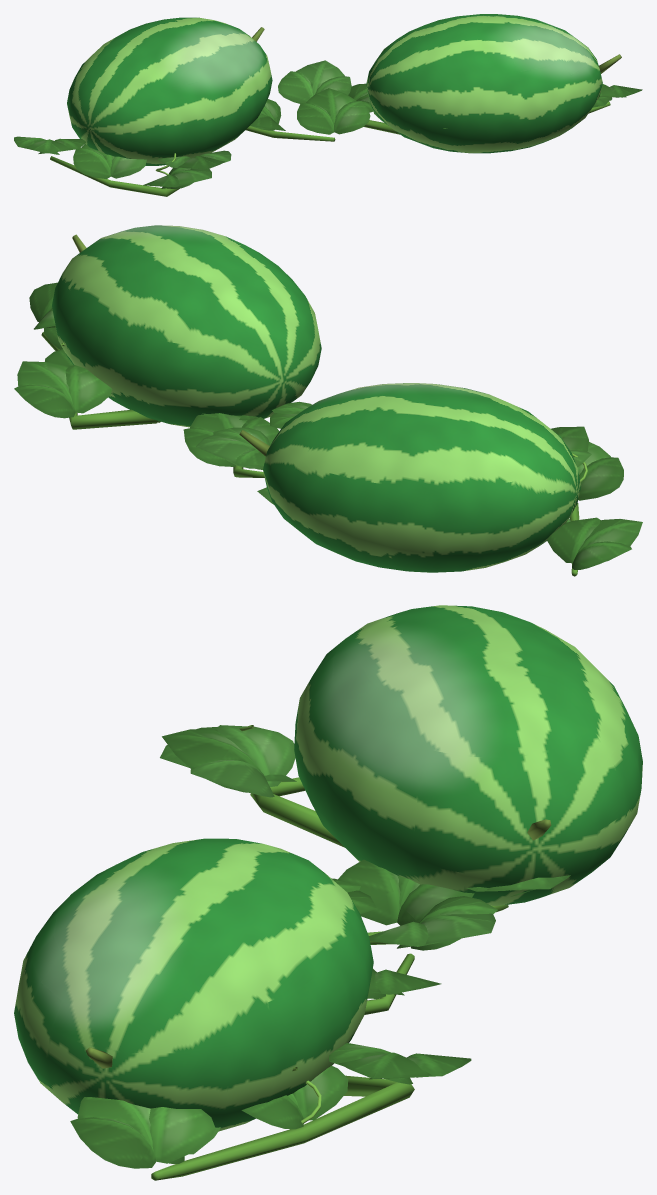
File: crop_watermelon.glb
3 renders of one model, top to bottom at view 1: azimuth 30°, elevation 25°; view 2: azimuth 150°, elevation 25°; view 3: azimuth 270°, elevation 25°, orthographic. The views are drawn at different scales.
Parts seen in each view (by area): view 1: P1_fruit0, P0_fruit0, P0_leaf, P1_leaf, P0_stem, P1_stem; view 2: P0_fruit0, P1_fruit0, P1_leaf, P0_leaf, P1_stem; view 3: P0_fruit0, P1_fruit0, P1_leaf, P0_leaf, P1_stem, P0_stem.
Part boxes in pixels (x1,y1,x2,y2): P1_fruit0: [366, 14, 621, 153]; P0_fruit0: [67, 17, 272, 165]; P0_leaf: [14, 88, 370, 188]; P1_leaf: [278, 60, 642, 128]; P0_stem: [50, 126, 335, 196]; P1_stem: [363, 101, 610, 134]; P0_fruit0: [239, 383, 581, 572]; P1_fruit0: [52, 225, 321, 427]; P1_leaf: [14, 282, 279, 469]; P0_leaf: [257, 401, 642, 569]; P1_stem: [41, 332, 264, 477]; P0_fruit0: [294, 605, 642, 906]; P1_fruit0: [14, 838, 373, 1131]; P1_leaf: [70, 896, 497, 1168]; P0_leaf: [160, 725, 570, 925]; P1_stem: [151, 953, 414, 1180]; P0_stem: [250, 777, 508, 944].
Size of the model in its own units: 1.62 by 0.3456 by 0.8473.
1 material, 1 textured.
